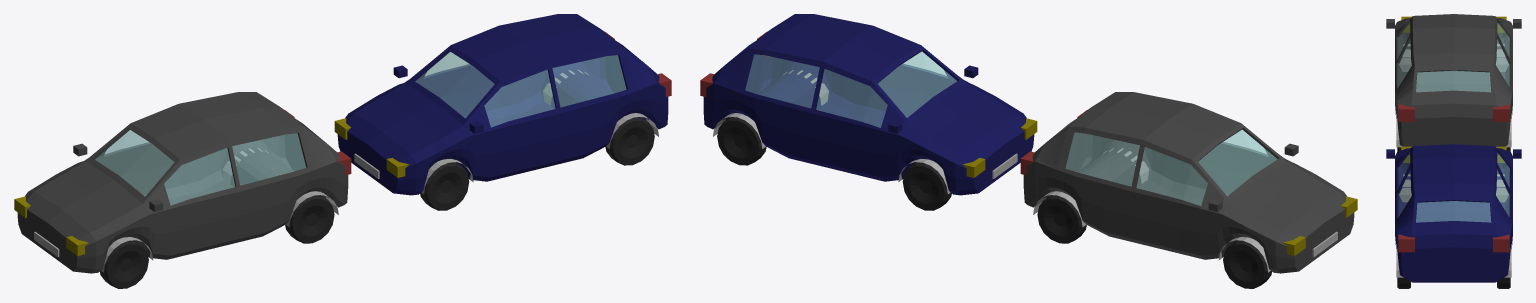
The model's file is YARIS.fbx.
3 renders of one model, left to right at view 1: azimuth 30°, elevation 25°; view 2: azimuth 150°, elevation 25°; view 3: azimuth 270°, elevation 25°, orthographic. The views are drawn at different scales.
Parts seen in each view (by area): view 1: polySurface215 (×2), polySurface227 (×2), polySurface217 (×2); view 2: polySurface215 (×2), polySurface227 (×2), polySurface217 (×2); view 3: polySurface215 (×2), polySurface219 (×2), polySurface223 (×2), polySurface225 (×2), polySurface217 (×2), polySurface227, polySurface214, polySurface224.
Part boxes in pixels (x1=…): polySurface215 (×2): x1=17, y1=14, x2=668, y2=273; polySurface227 (×2): x1=100, y1=117, x2=654, y2=288; polySurface217 (×2): x1=14, y1=118, x2=408, y2=255; polySurface215 (×2): x1=703, y1=14, x2=1354, y2=273; polySurface227 (×2): x1=717, y1=117, x2=1271, y2=288; polySurface217 (×2): x1=963, y1=118, x2=1357, y2=255; polySurface215 (×2): x1=1386, y1=14, x2=1521, y2=282; polySurface219 (×2): x1=1398, y1=104, x2=1509, y2=252; polySurface223 (×2): x1=1496, y1=44, x2=1508, y2=202; polySurface225 (×2): x1=1399, y1=44, x2=1411, y2=202; polySurface217 (×2): x1=1401, y1=16, x2=1506, y2=162; polySurface227: x1=1397, y1=277, x2=1510, y2=288; polySurface214: x1=1396, y1=244, x2=1403, y2=277; polySurface224: x1=1504, y1=244, x2=1511, y2=277.
Size of the model in its own units: 26.61 by 5.08 by 6.31.
